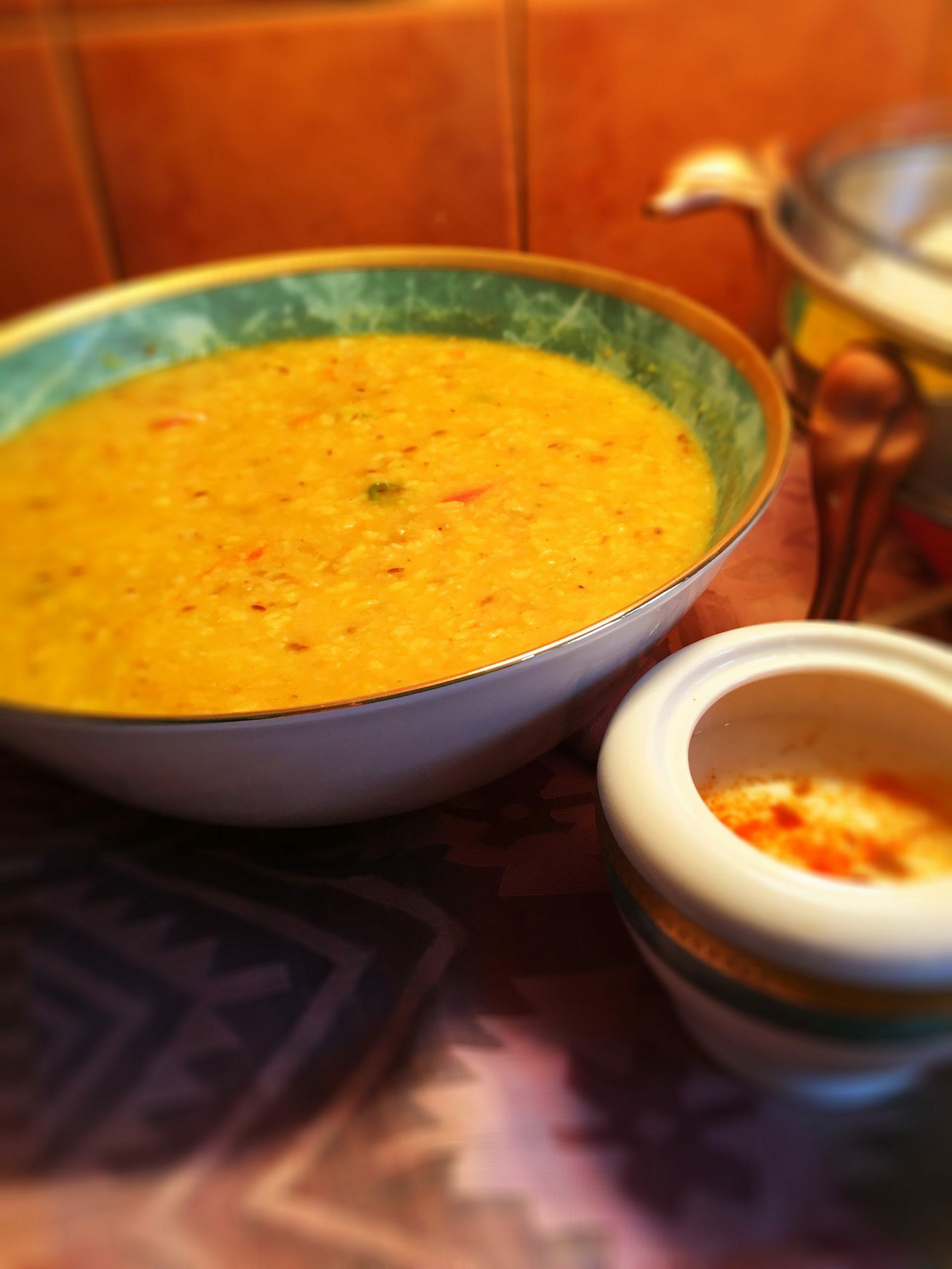Dal: (0, 337, 710, 708)
